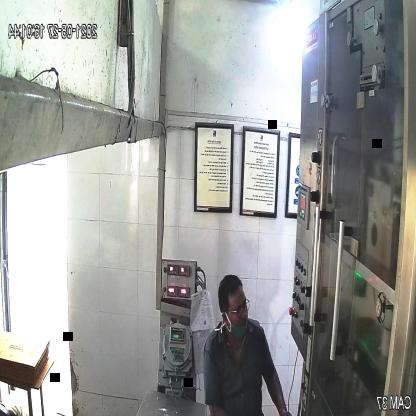goggles: (221, 297, 251, 319)
